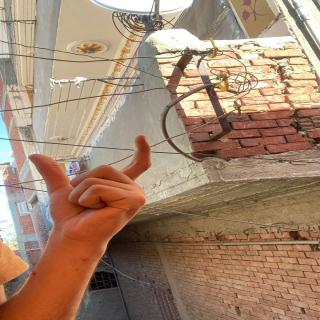NOON: (24, 128, 179, 236)
